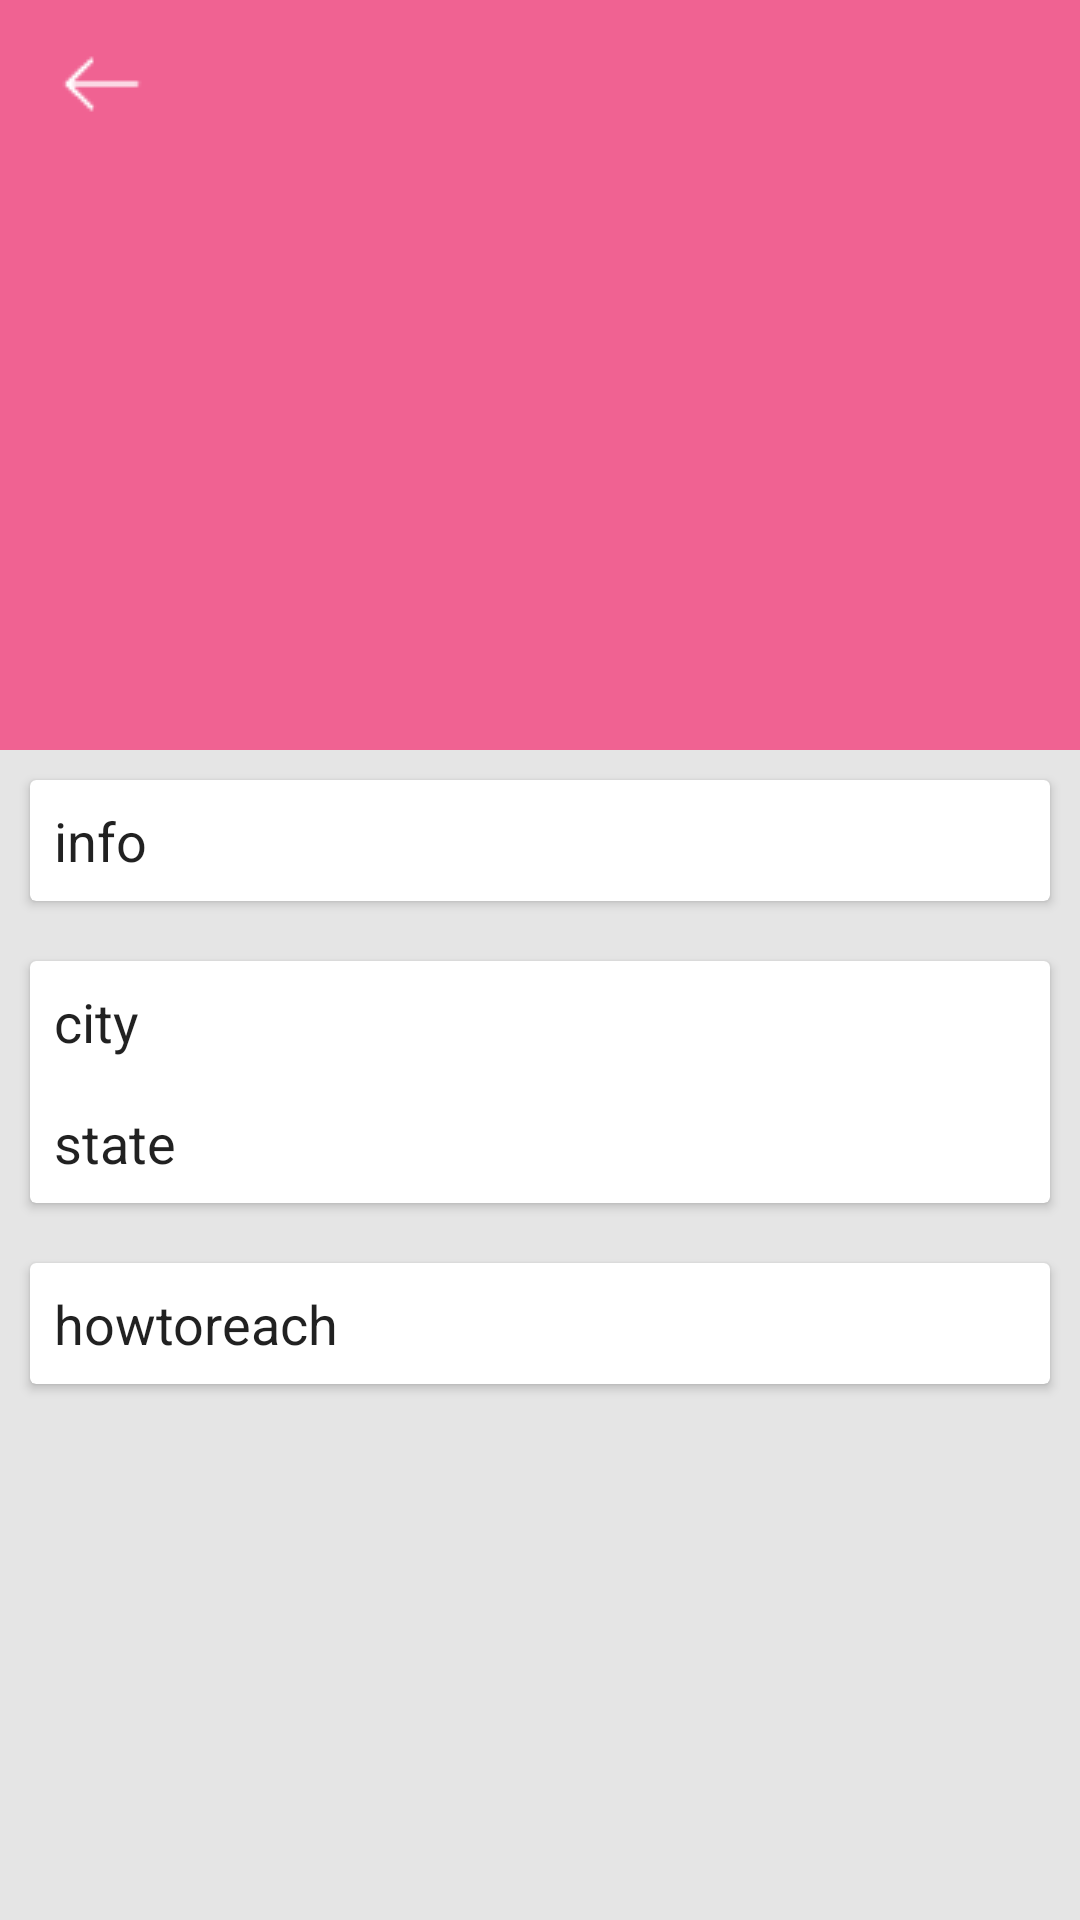

Point at icon controls on the screen. Image size 1080 x 1920, points as [x,y].
back: [102,84]
